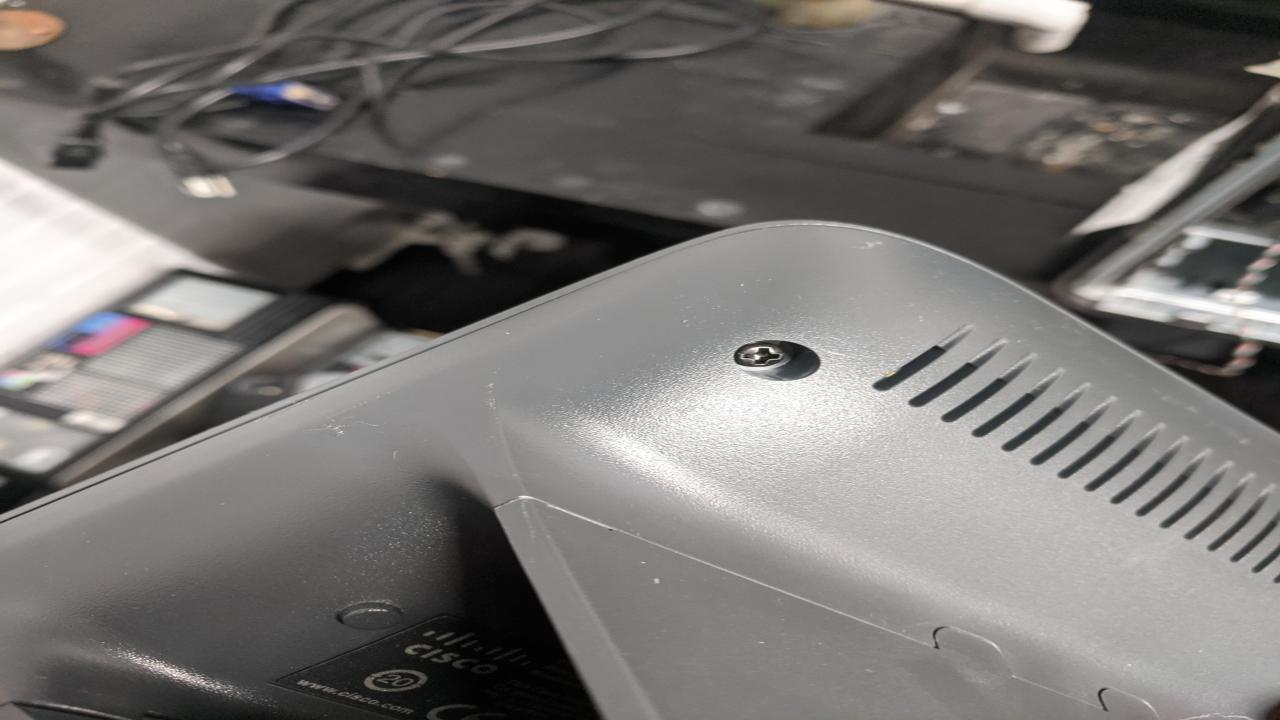CRS: (728, 341, 795, 371)
